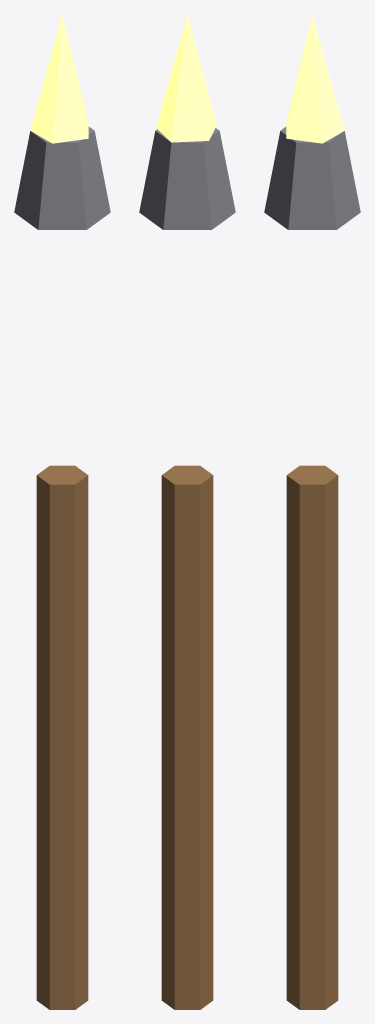
The model's file is torch.fbx.
3 views of the same model, side by side, from view 1: azimuth 90°, elevation 25°; view 2: azimuth 150°, elevation 25°; view 3: azimuth 270°, elevation 25° (orthographic).
Parts seen in each view (by area): view 1: Torch_Handle, Torch_Collar, Torch_Flame; view 2: Torch_Handle, Torch_Collar, Torch_Flame; view 3: Torch_Handle, Torch_Collar, Torch_Flame.
Part boxes in pixels (x1=…): Torch_Handle: x1=36, y1=465, x2=88, y2=1009; Torch_Collar: x1=14, y1=126, x2=110, y2=229; Torch_Flame: x1=30, y1=14, x2=88, y2=143; Torch_Handle: x1=161, y1=465, x2=213, y2=1009; Torch_Collar: x1=139, y1=128, x2=235, y2=229; Torch_Flame: x1=156, y1=14, x2=216, y2=142; Torch_Handle: x1=286, y1=465, x2=338, y2=1009; Torch_Collar: x1=264, y1=126, x2=360, y2=229; Torch_Flame: x1=286, y1=14, x2=344, y2=143.
Bounding box in the file's own units: 0.1299 × 1.69 × 0.15.
